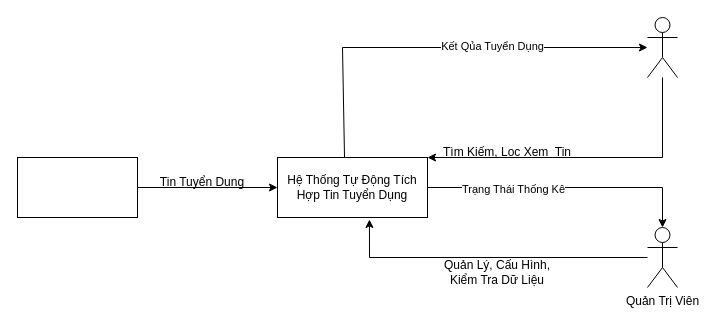
The diagram is 722 pixels wide and 326 high, and some of its shapes have lost their labels. The centre of each missing label's shape, as x and y in pixels:
Nguồn Tuyển Dụng: point 77,187
Người Tìm Việc: point 662,47
